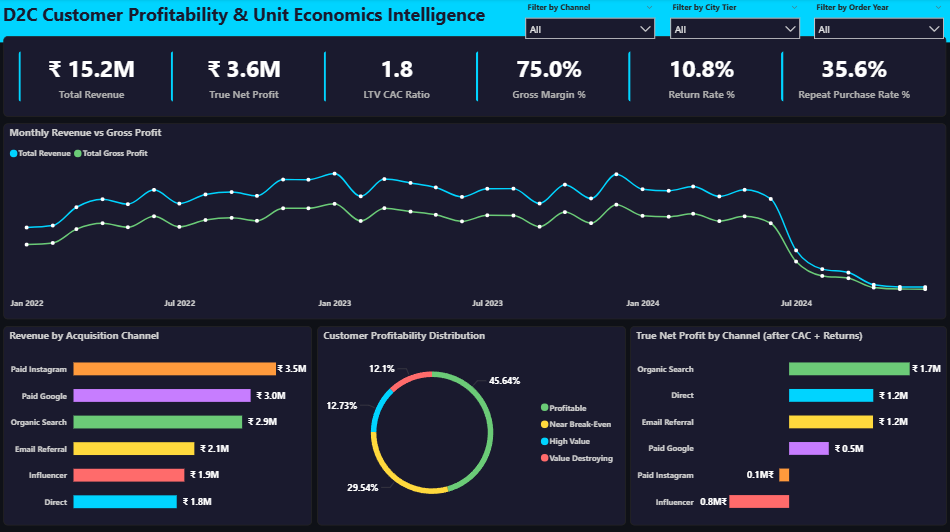

Layout of this report page (visuals, bound fields, positions):
{"tool":"powerbi","page":{"name":"Executive Summary","canvas":[1280,720],"ordinal":0},"visuals":[{"type":"textbox","box":[0,0,1279.4,60],"z":0},{"type":"cardVisual","fields":{"Data":["_Measures.Total Revenue","_Measures.True Net Profit","_Measures.LTV CAC Ratio","_Measures.Gross Margin %","_Measures.Return Rate %","_Measures.Repeat Purchase Rate %"]},"box":[6,51.1,1267.4,108.2],"z":1000},{"type":"lineChart","title":"Monthly Revenue vs Gross Profit","fields":{"Category":["fact_orders.order_yearmonth"],"Y":["_Measures.Total Revenue","_Measures.Total Gross Profit"]},"box":[6,168.4,1267.4,263.1],"z":2000},{"type":"barChart","title":"Revenue by Acquisition Channel","fields":{"Category":["dim_customers.acquisition_channel"],"Y":["_Measures.Total Revenue"]},"box":[6,440.5,415,268],"z":3000},{"type":"clusteredBarChart","title":"True Net Profit by Channel (after CAC + Returns)","fields":{"Category":["dim_customers.acquisition_channel"],"Y":["_Measures.True Net Profit"]},"box":[847.9,440.5,425.5,267.6],"z":4000},{"type":"donutChart","title":"Customer Profitability Distribution","fields":{"Category":["customer_profitability.profit_segment"],"Y":["Count(customer_profitability.customer_id)"]},"box":[427,440.5,414.9,267.6],"z":5000},{"type":"slicer","fields":{"Values":["dim_channel.Channel"]},"box":[697.6,0,193.9,58.6],"z":6000},{"type":"slicer","fields":{"Values":["dim_date.Year"]},"box":[1085.5,0,193.9,57.1],"z":7000},{"type":"slicer","fields":{"Values":["dim_customers.city_tier"]},"box":[891.5,0,193.9,58.6],"z":8000}]}

Visuals, with their boxes in screenshot pixels (x1, y1, x2, y2), scaled from the page's 1280x720 canvas onto the 950x532 screenshot:
textbox: [0, 0, 949, 44]
cardVisual - _Measures.Total Revenue x _Measures.True Net Profit: [4, 38, 945, 118]
"Monthly Revenue vs Gross Profit" lineChart: [4, 124, 945, 319]
"Revenue by Acquisition Channel" barChart: [4, 325, 312, 524]
"True Net Profit by Channel (after CAC + Returns)" clusteredBarChart: [629, 325, 945, 523]
"Customer Profitability Distribution" donutChart: [317, 325, 625, 523]
slicer - dim_channel.Channel: [518, 0, 662, 43]
slicer - dim_date.Year: [806, 0, 949, 42]
slicer - dim_customers.city_tier: [662, 0, 806, 43]
